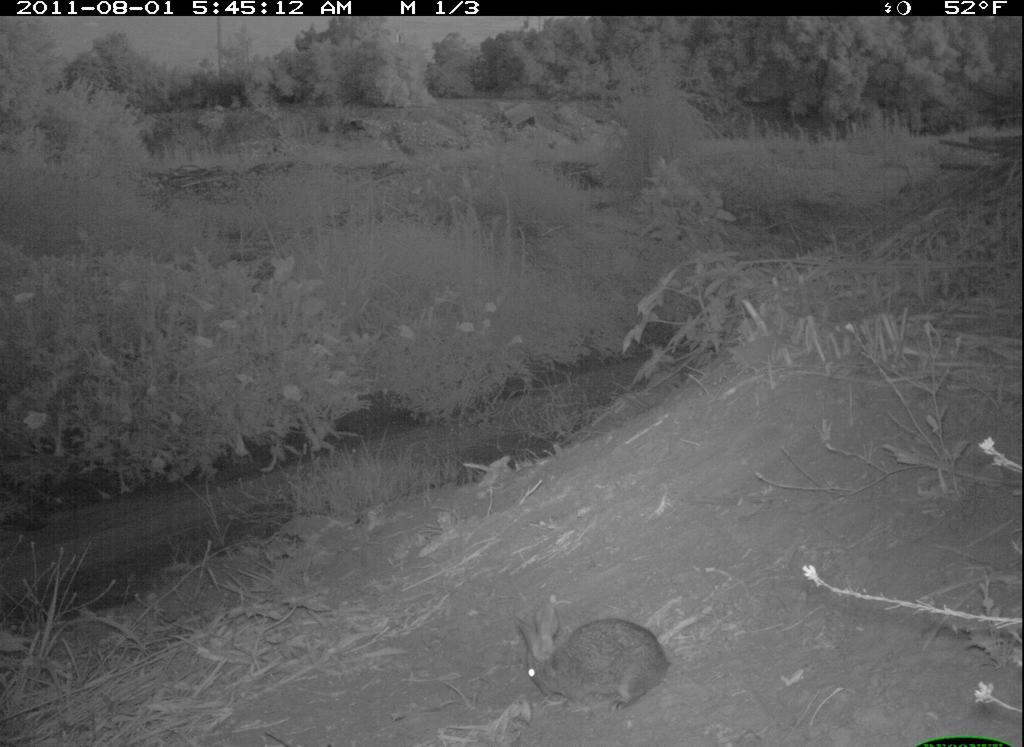rabbit: (509, 603, 671, 726)
